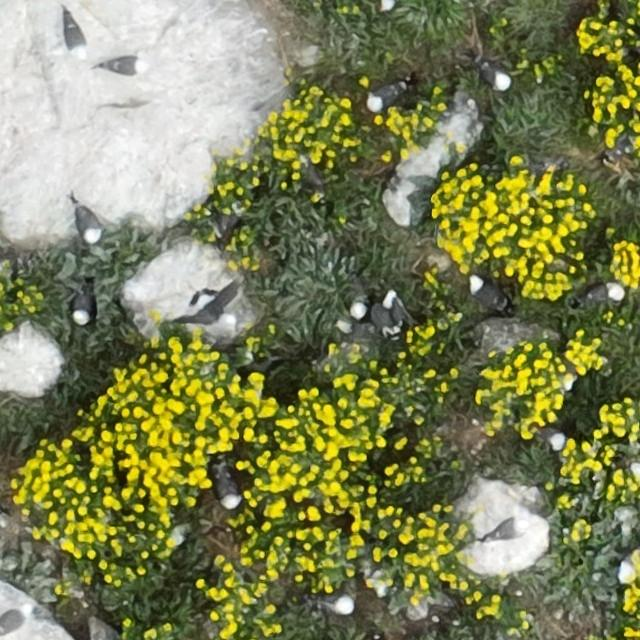F: (182, 291, 230, 326)
umineko: (60, 7, 88, 60), (470, 278, 503, 310), (347, 273, 368, 322), (0, 604, 34, 634), (218, 469, 242, 508), (368, 83, 402, 108), (580, 283, 622, 303), (482, 63, 512, 89), (79, 209, 101, 242), (321, 594, 355, 614), (488, 521, 520, 542), (386, 294, 405, 329), (107, 57, 143, 74), (74, 290, 92, 323), (543, 430, 568, 450), (379, 0, 398, 9)
